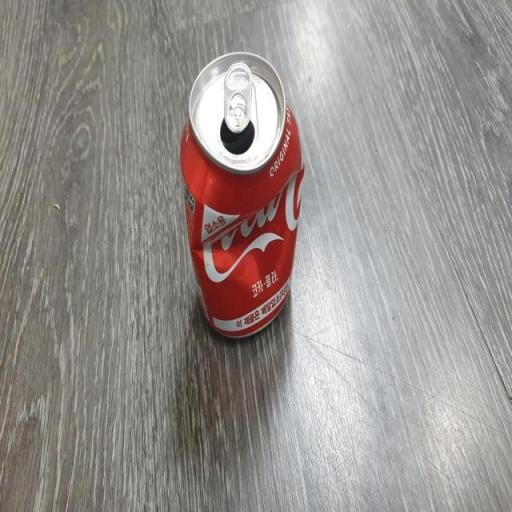metal: (165, 33, 312, 357)
